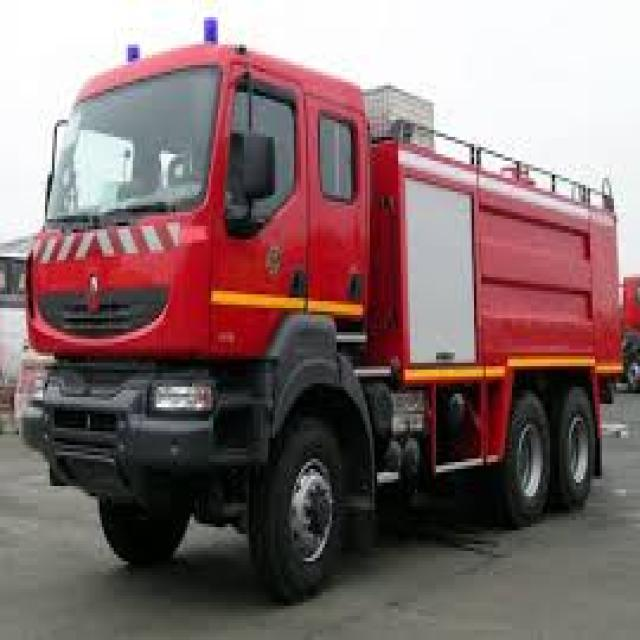pompier: (28, 17, 618, 595)
